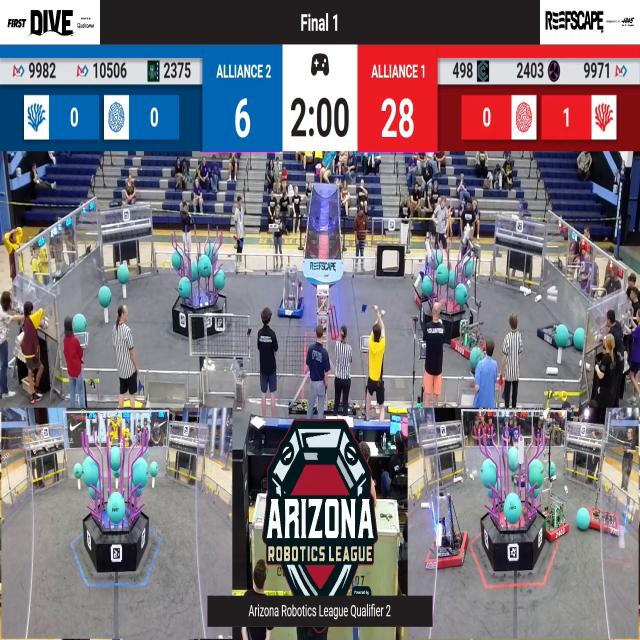scoreboard: (0, 43, 640, 149)
